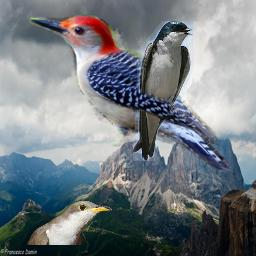Cuckoo: (27, 200, 112, 245)
Swallow: (133, 21, 194, 161)
Woodpecker: (30, 15, 231, 171)
